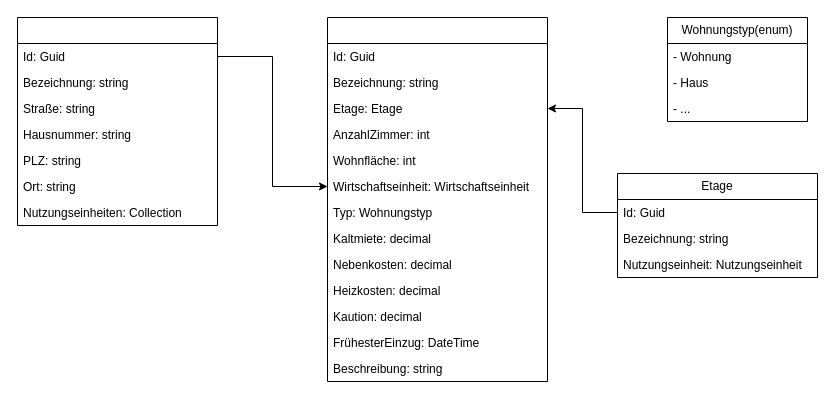
The diagram is 835 pixels wide and 402 high, and some of its shapes have lost their labels. The box of each missing label's shape, as (x1, y1, x2, y2) in pixels:
Nutzungseinheit: (326, 16, 548, 382)
Wirtschaftseinheit: (16, 16, 218, 226)
